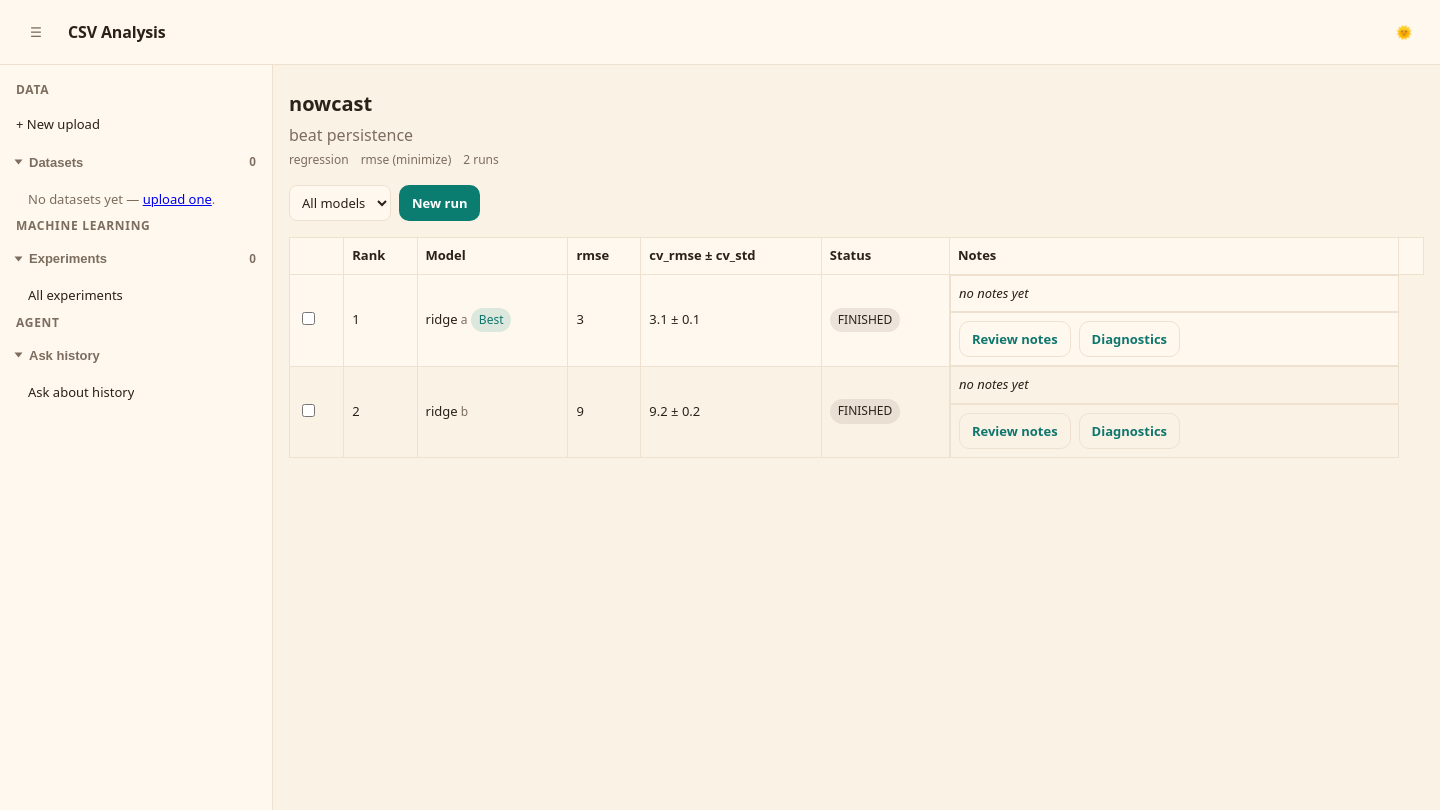
Test: the diagnostics action is per run, not per experiment
Click the button with aria-label "Run diagnostics for b" at (1129, 430), box top-left (1079, 412), bottom-right (1180, 448)
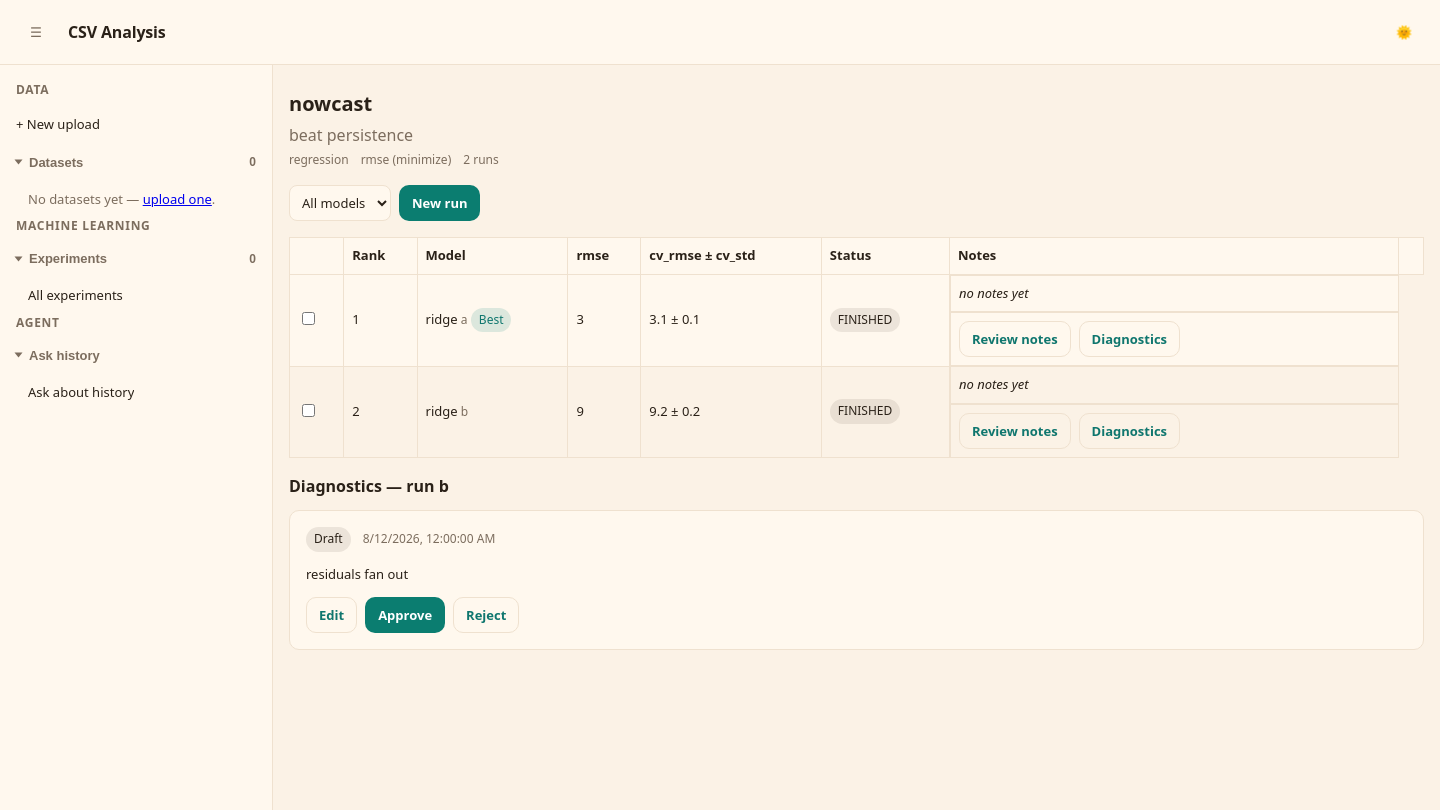
Expected: the text "residuals fan out" is shown, top-left (306, 565), bottom-right (408, 583)
